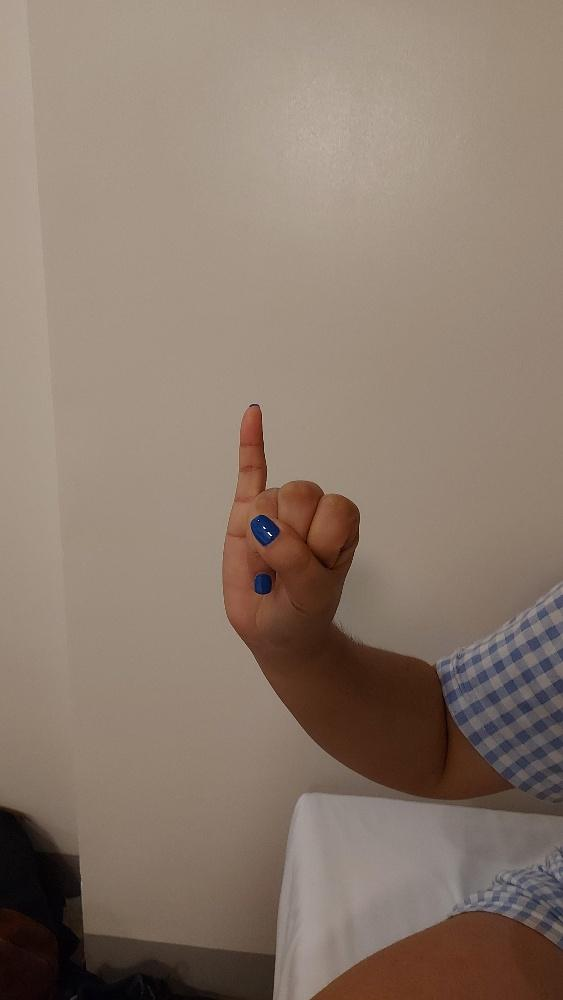i: (221, 401, 361, 644)
